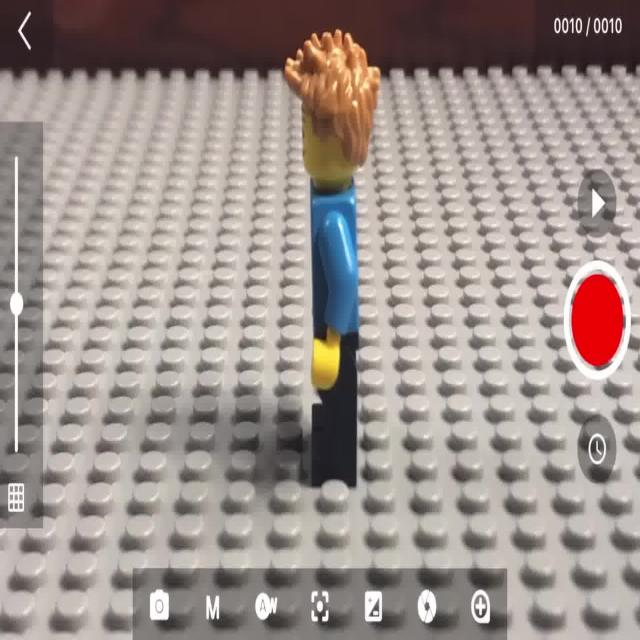4: (314, 206, 354, 392)
animal: (21, 263, 38, 281)
hand: (279, 11, 372, 486)
